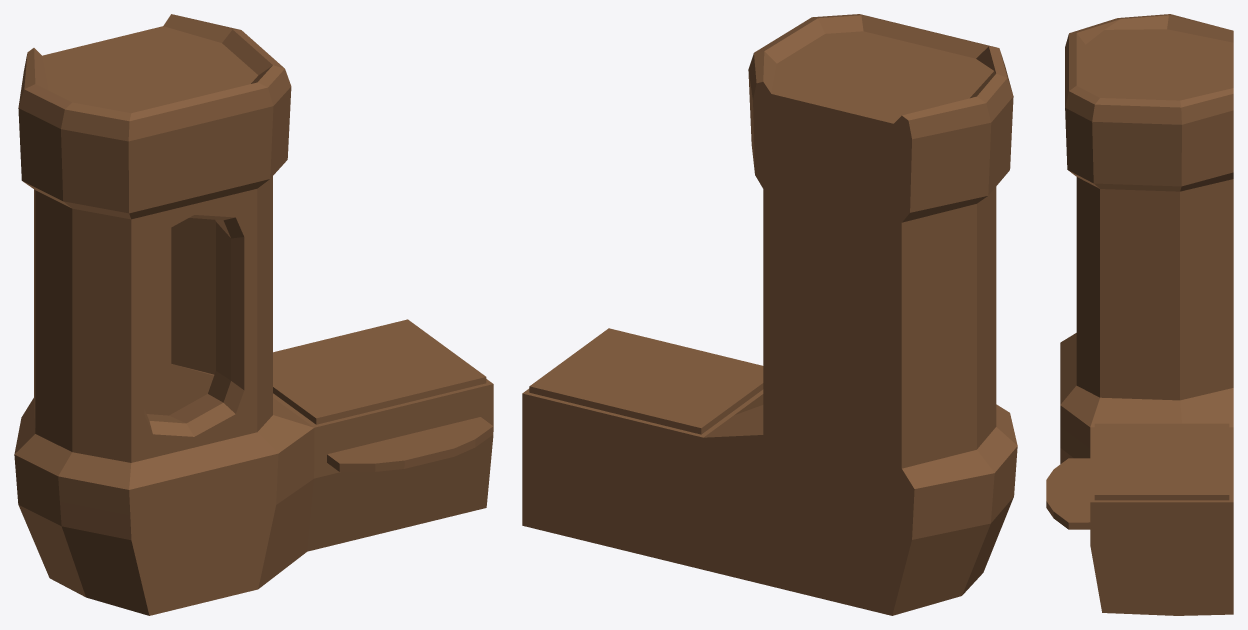
Rendered from maquinaSemNada.fbx.
3 renders of one model, left to right at view 1: azimuth 30°, elevation 25°; view 2: azimuth 150°, elevation 25°; view 3: azimuth 270°, elevation 25°, orthographic. The views are drawn at different scales.
Visible parts, largest first — view 1: Cylinder; view 2: Cylinder; view 3: Cylinder.
Boxes of the visible parts, x1,y1,x2,y2 form: Cylinder: (14, 14, 493, 615); Cylinder: (522, 14, 1017, 615); Cylinder: (1046, 14, 1233, 615).
Bounding box in the file's own units: 616 × 681 × 270.
